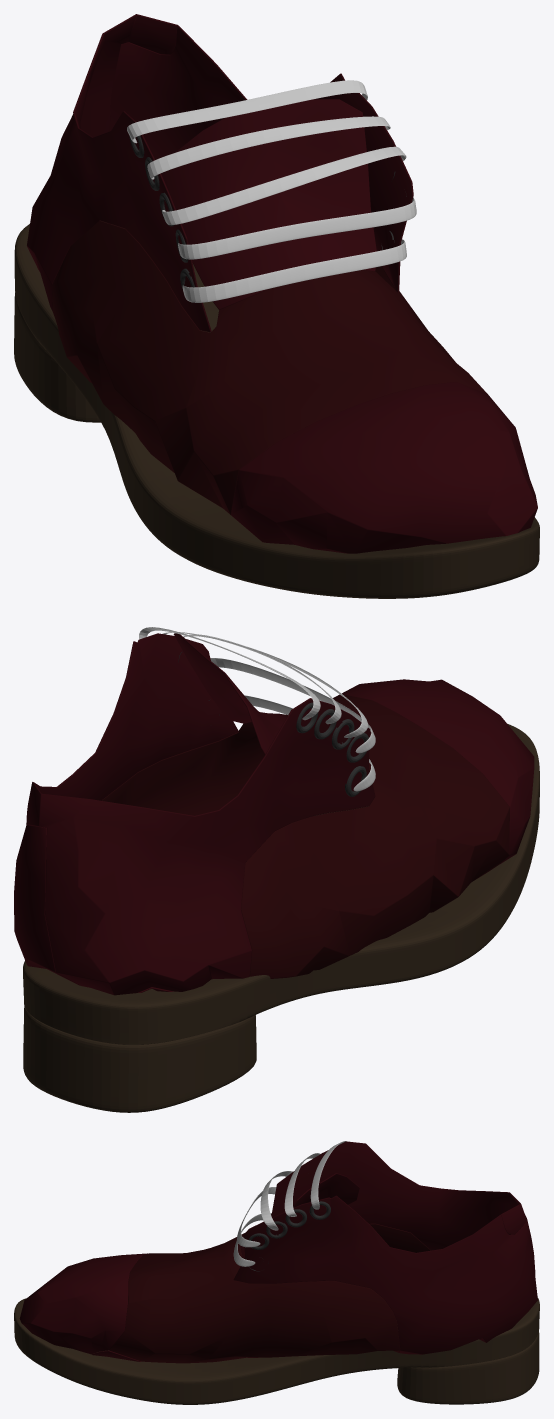
Rendered from za1in2derecha.fbx.
3 views of the same model, one above another, from view 1: azimuth 30°, elevation 25°; view 2: azimuth 150°, elevation 25°; view 3: azimuth 270°, elevation 25° (orthographic). The views are drawn at different scales.
Parts seen in each view (by area): view 1: ZAPATO1_3, Plane, Plane.002, Plane.005, Plane.001, Plane.004, Plane.003; view 2: ZAPATO1_3, Plane, Plane.002, Plane.004, Plane.005, Plane.001; view 3: ZAPATO1_3, Plane, Plane.001, Plane.004, Plane.003, Plane.002, Plane.005.
Boxes of the visible parts, left/top/right/bottom form: ZAPATO1_3: left=27, top=14, right=537, bottom=553; Plane: left=14, top=224, right=539, bottom=598; Plane.002: left=178, top=197, right=416, bottom=259; Plane.005: left=182, top=239, right=406, bottom=302; Plane.001: left=162, top=146, right=406, bottom=224; Plane.004: left=127, top=80, right=367, bottom=143; Plane.003: left=147, top=116, right=390, bottom=179; ZAPATO1_3: left=14, top=633, right=534, bottom=995; Plane: left=23, top=724, right=539, bottom=1112; Plane.002: left=210, top=658, right=375, bottom=753; Plane.004: left=139, top=627, right=320, bottom=720; Plane.005: left=244, top=695, right=375, bottom=791; Plane.001: left=183, top=634, right=367, bottom=737; ZAPATO1_3: left=19, top=1141, right=537, bottom=1363; Plane: left=14, top=1298, right=539, bottom=1404; Plane.001: left=260, top=1171, right=293, bottom=1230; Plane.004: left=310, top=1141, right=347, bottom=1209; Plane.003: left=284, top=1153, right=320, bottom=1216; Plane.002: left=237, top=1187, right=276, bottom=1247; Plane.005: left=233, top=1213, right=271, bottom=1266.
Bounding box in the file's own units: 174 × 204 × 447.
